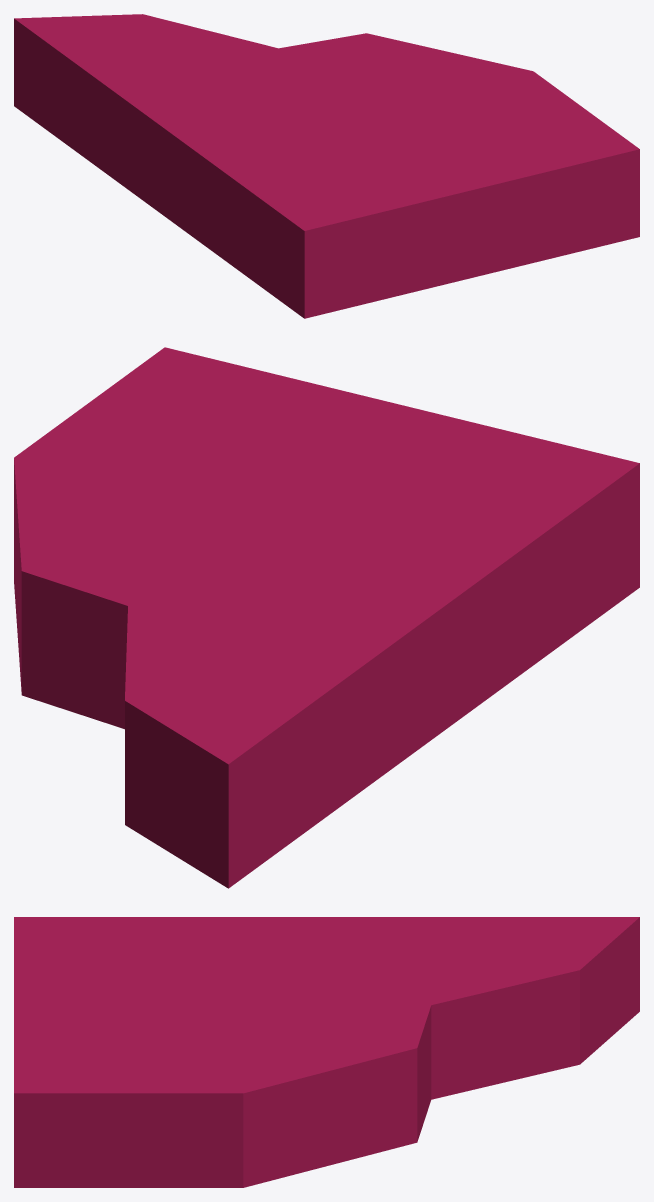
The model's file is Boss_Floor_01.fbx.
3 views of the same model, one above another, from view 1: azimuth 30°, elevation 25°; view 2: azimuth 150°, elevation 25°; view 3: azimuth 270°, elevation 25° (orthographic). The views are drawn at different scales.
Visible parts, largest first — view 1: Boss_Floor_01; view 2: Boss_Floor_01; view 3: Boss_Floor_01.
Part boxes in pixels (x1=…): Boss_Floor_01: x1=14, y1=14, x2=639, y2=318; Boss_Floor_01: x1=14, y1=347, x2=639, y2=888; Boss_Floor_01: x1=14, y1=917, x2=639, y2=1187.
Bounding box in the file's own units: 800 × 200 × 1200.
